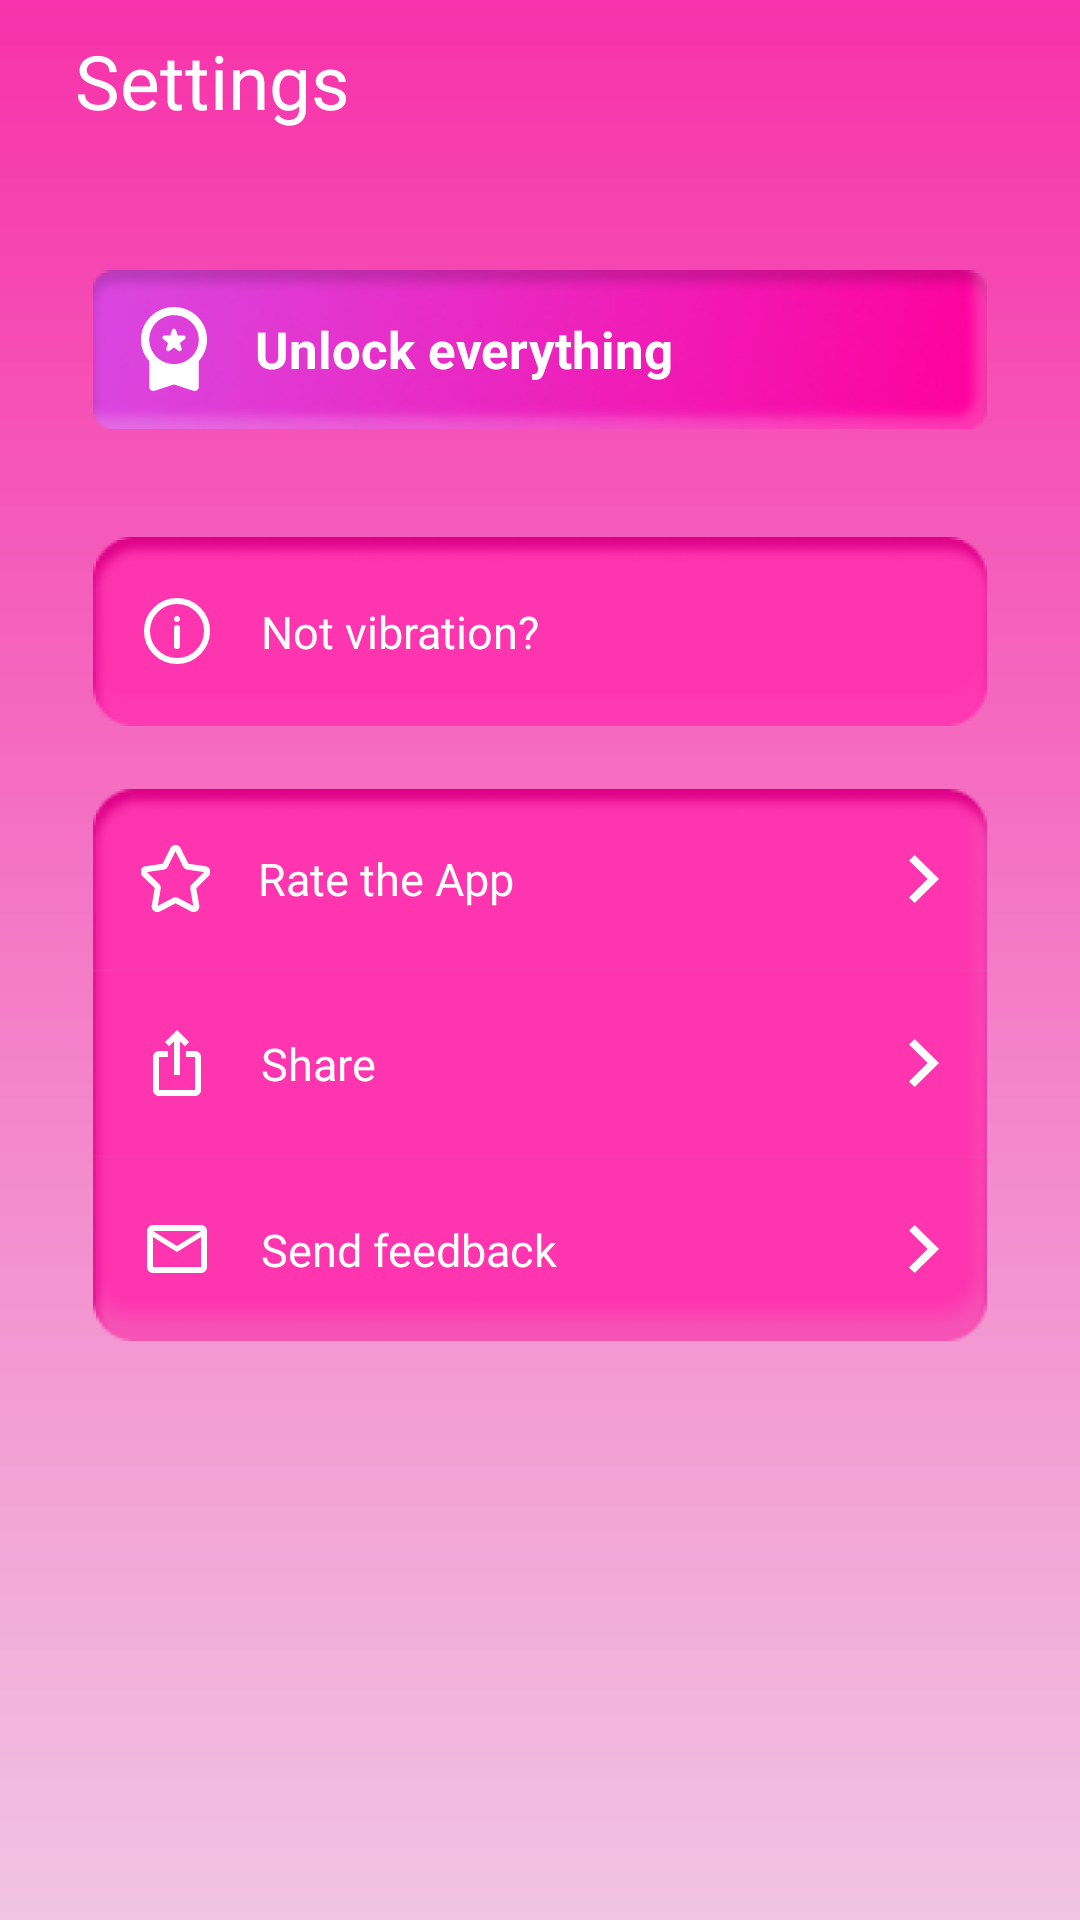

Screen size 1080px×1920px. Icon name, then its center in pixels as (x,y):
arrow right: (924,879), (924,1063), (924,1249)
email: (177,1249)
star: (175,878)
